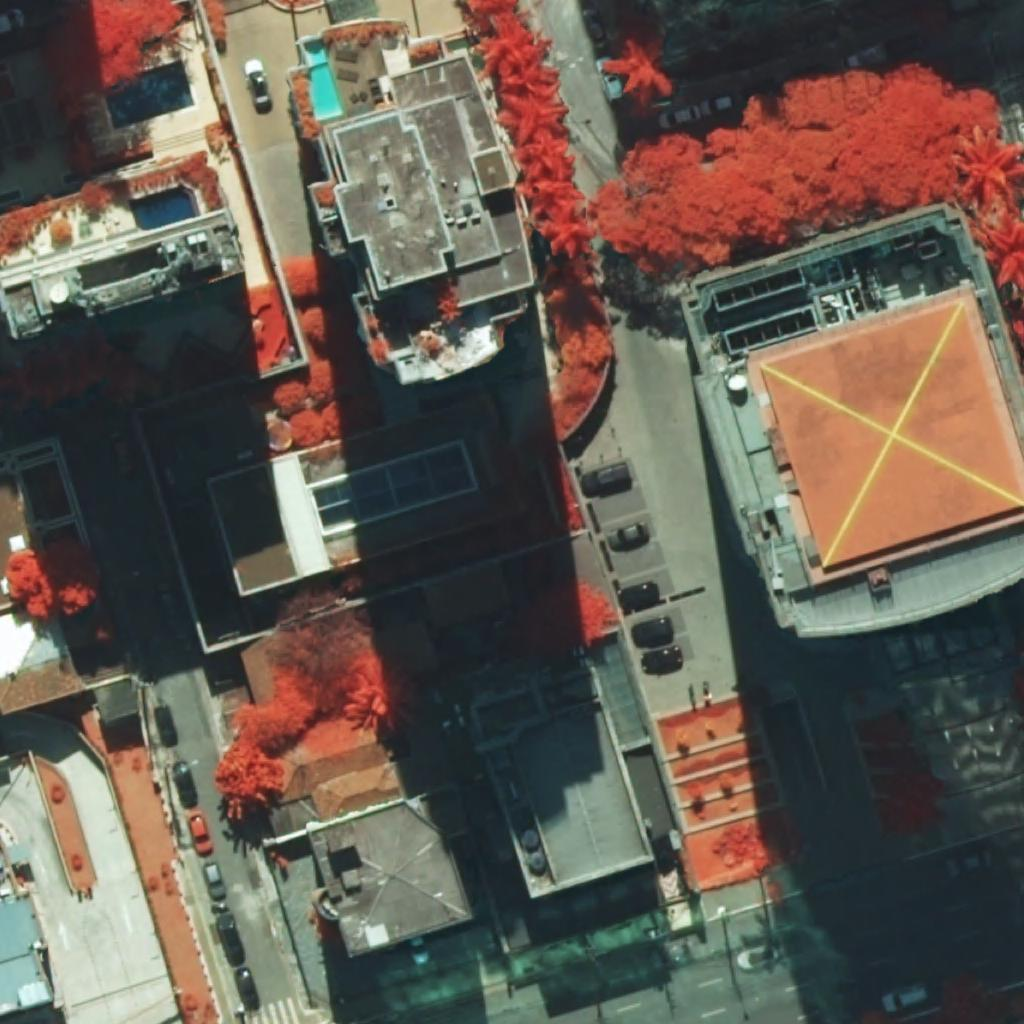pool: (105, 60, 194, 130), (129, 185, 201, 231), (304, 39, 343, 119)
